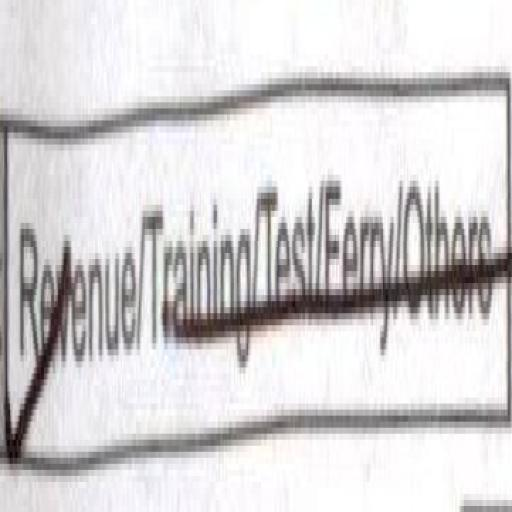check: (6, 119, 138, 512)
